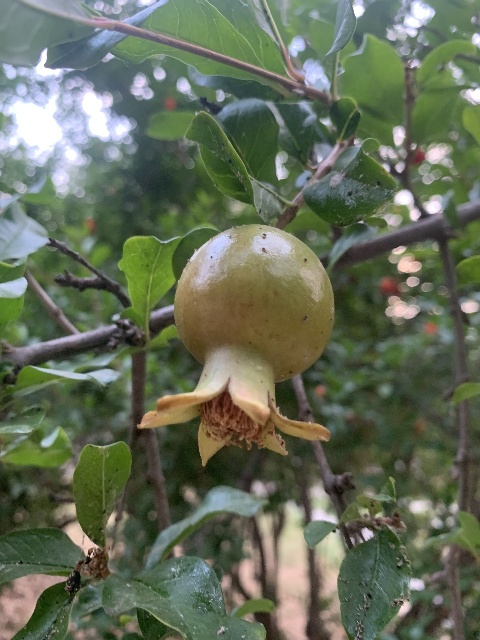mid-growth: (137, 224, 337, 468)
